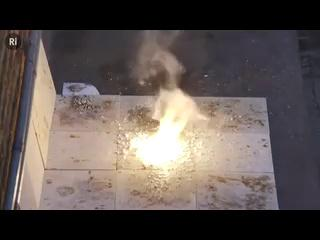Fire: (130, 115, 184, 168)
